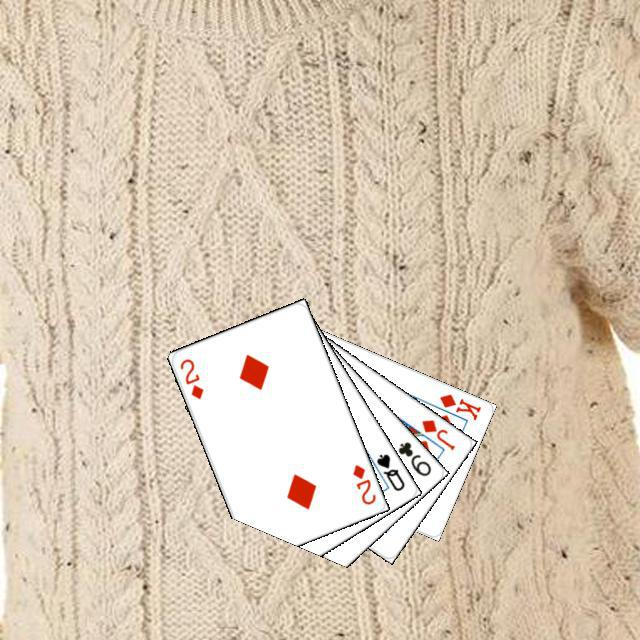2d: (347, 459, 378, 507), (175, 354, 205, 401)
9c: (393, 437, 433, 478)
Jd: (416, 414, 457, 452)
Kd: (435, 389, 483, 422)
Qs: (371, 449, 406, 493)
